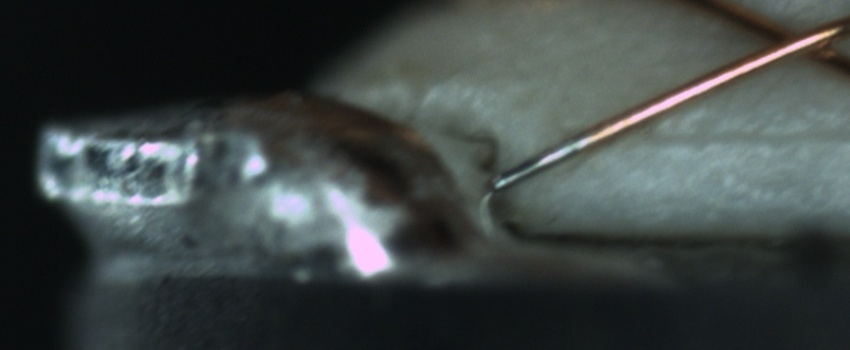CL: (737, 7, 845, 75)
DL: (623, 109, 850, 173)
TS: (492, 137, 587, 191)
